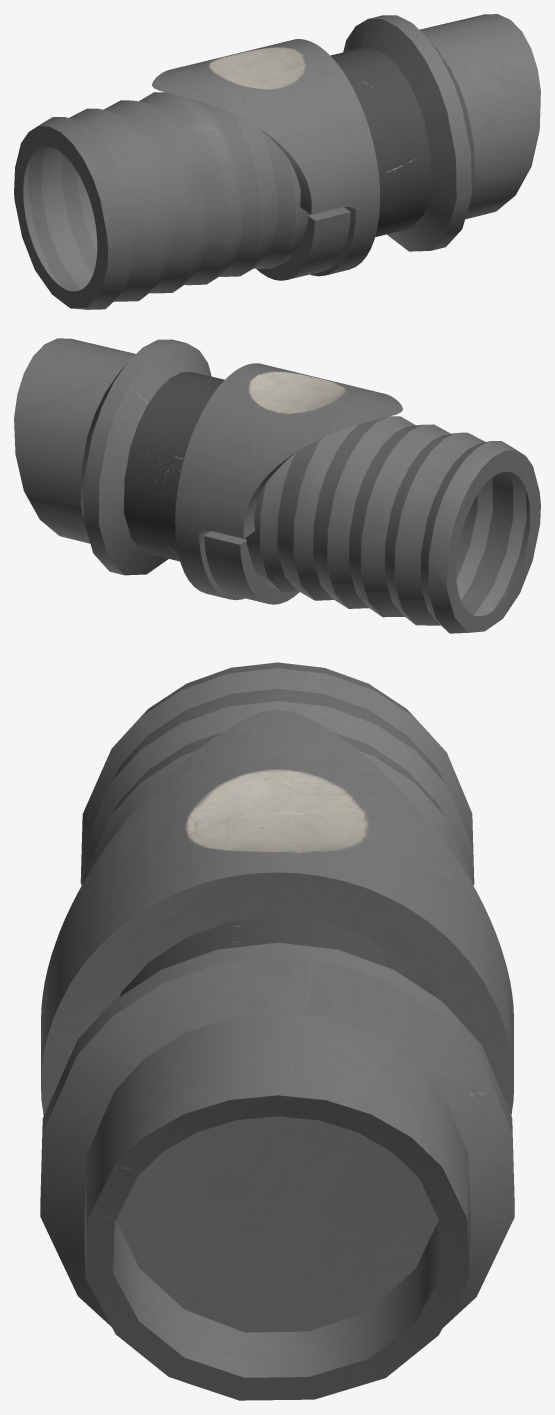
Rendered from guard_11_c_a.glb.
3 renders of one model, top to bottom at view 1: azimuth 30°, elevation 25°; view 2: azimuth 150°, elevation 25°; view 3: azimuth 270°, elevation 25°, orthographic. The views are drawn at different scales.
Visible parts, largest first — view 1: guard_11_c_a_lod0; view 2: guard_11_c_a_lod0; view 3: guard_11_c_a_lod0.
Part boxes in pixels (box(x1,y1,x2,y2)): guard_11_c_a_lod0: box(14, 14, 540, 309); guard_11_c_a_lod0: box(14, 338, 540, 633); guard_11_c_a_lod0: box(40, 662, 514, 1400).
Size of what is drawn, in the model's own units: 0.0761 by 0.035 by 0.0348.
1 material, 1 textured.
